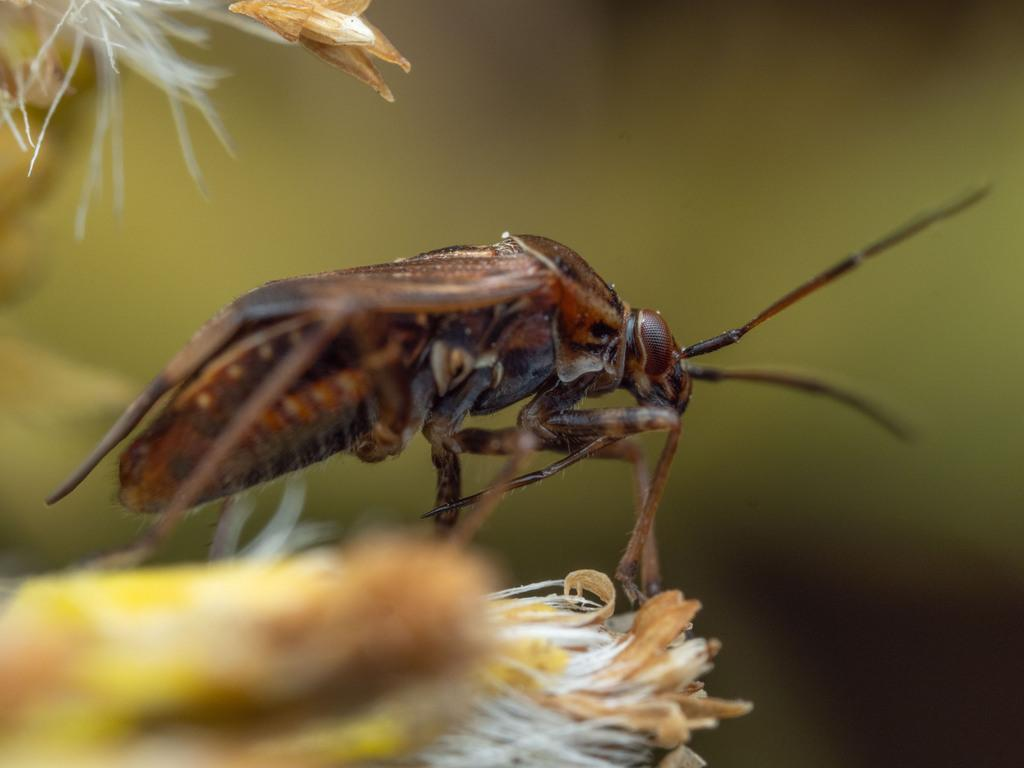plant_bugs: (20, 97, 1024, 670)
